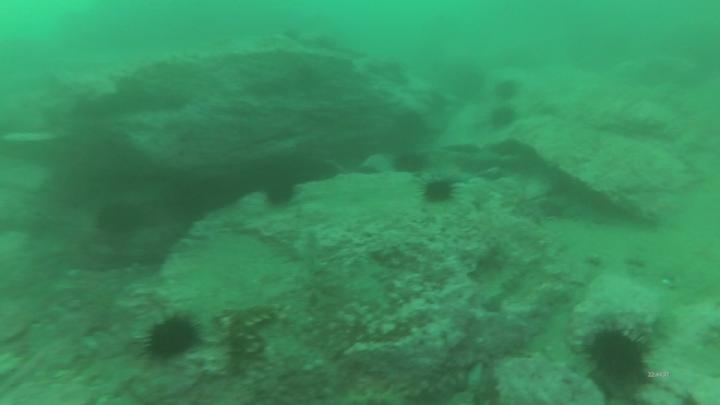echinus: (220, 302, 287, 359)
starfish: (579, 320, 651, 399), (144, 310, 199, 365), (92, 200, 148, 239), (265, 170, 299, 209), (422, 176, 459, 206), (392, 149, 431, 177), (490, 105, 518, 133), (496, 78, 525, 104)
